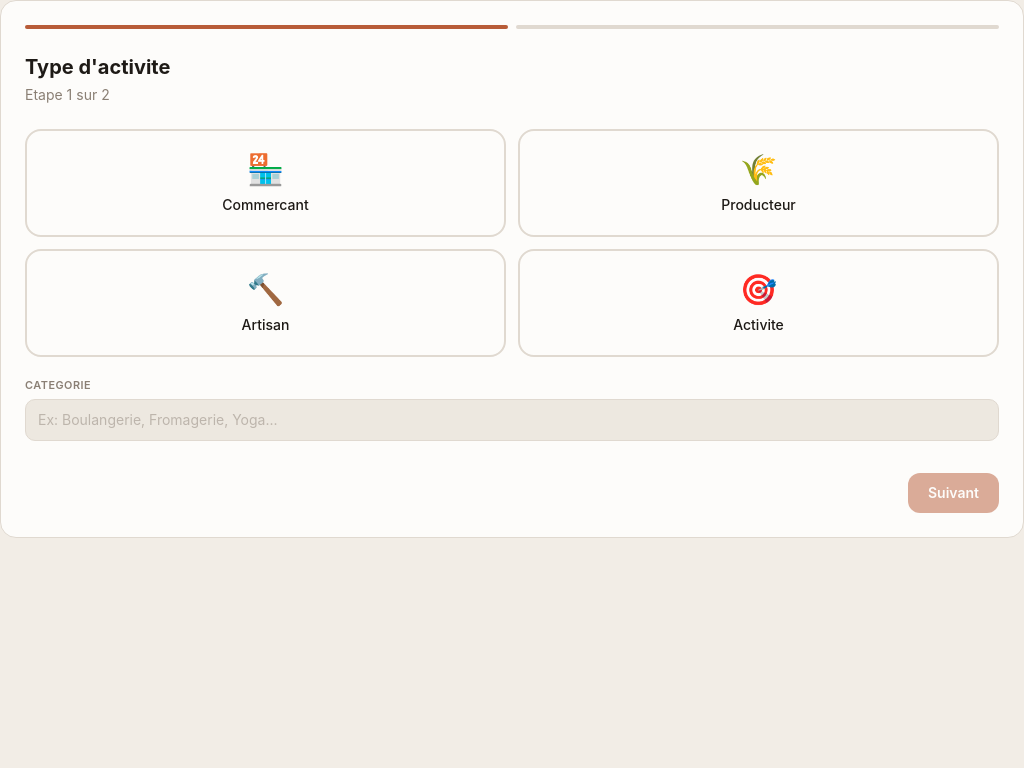
OnboardingWizard › navigates to step 2 after selecting type and category
Click the text "Commercant": [265, 205] box x1=222 y1=195 x2=309 y2=215
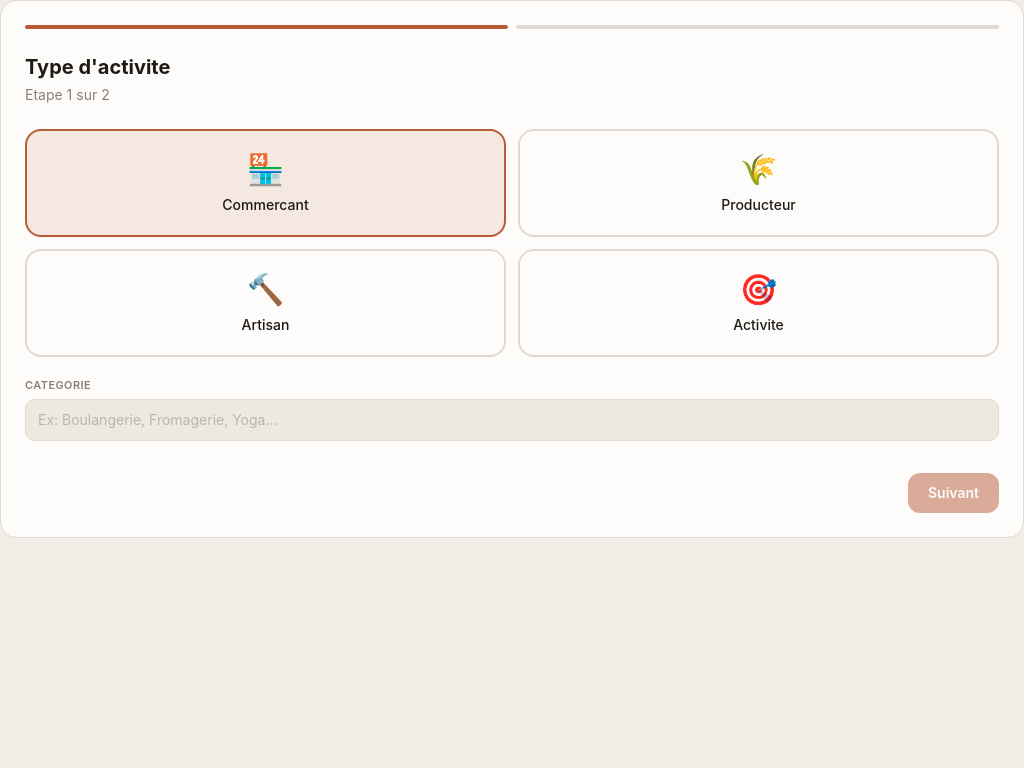
In the field with placeholder "Ex: Boulangerie, Fromagerie, Yoga...": [512, 420] box x1=25 y1=399 x2=999 y2=441, type "Boulangerie"
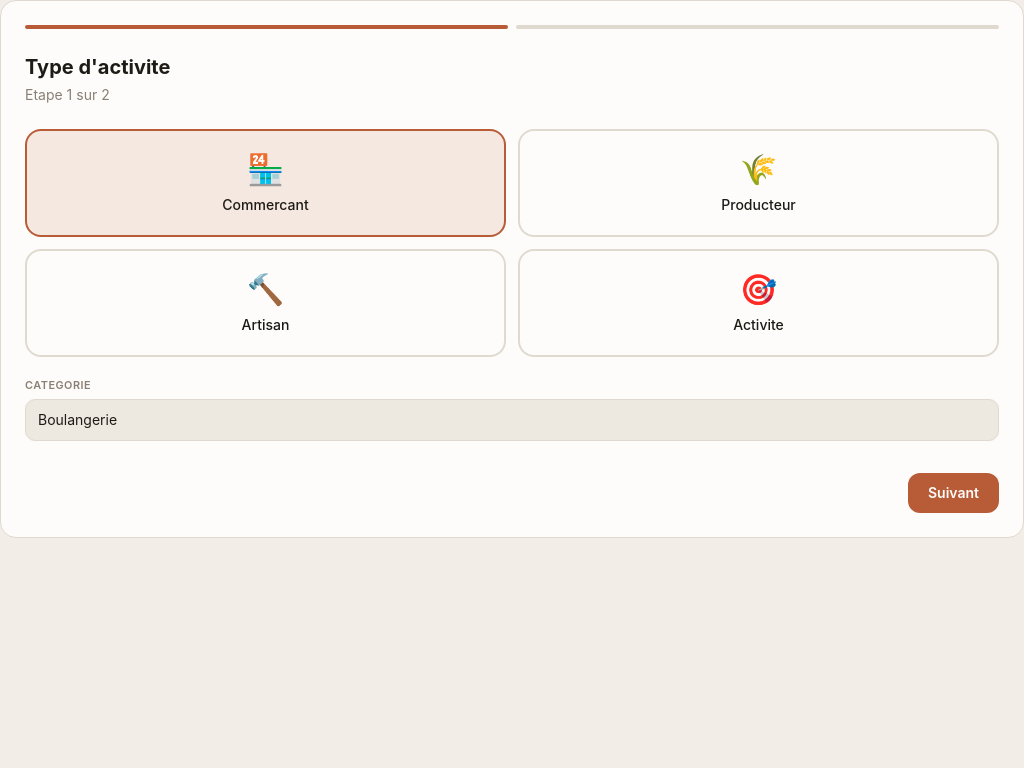
Click the button "Suivant": [954, 493] box x1=908 y1=473 x2=999 y2=513
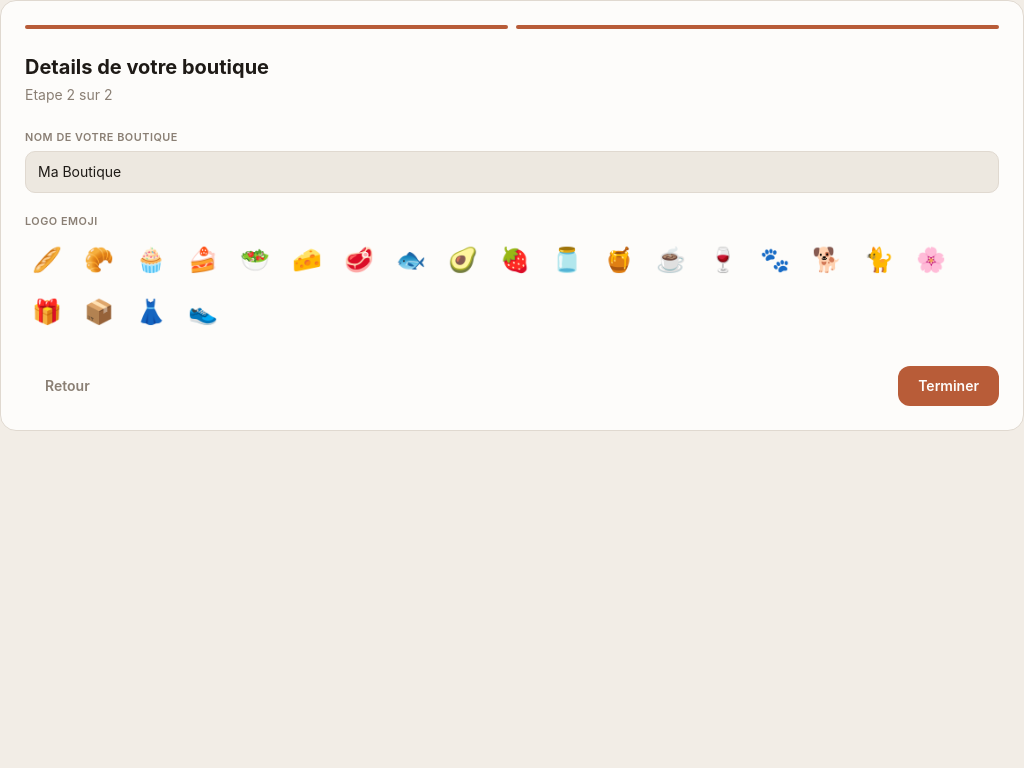
Check: the heading "Details de votre boutique" is shown, box x1=25 y1=55 x2=269 y2=79
Check: the text "Etape 2 sur 2" is shown, box x1=25 y1=86 x2=112 y2=103
